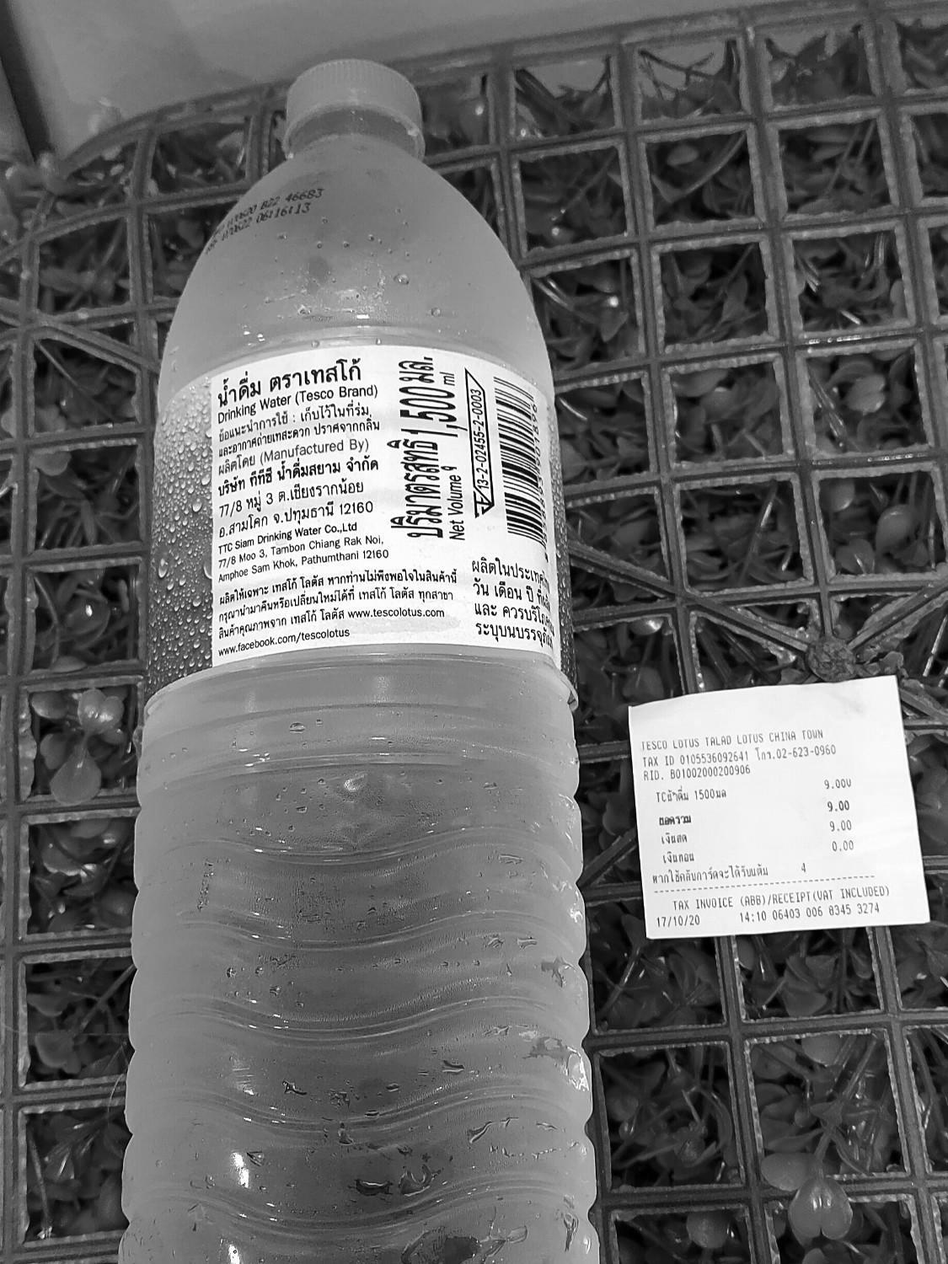bottle: (92, 31, 613, 1264)
